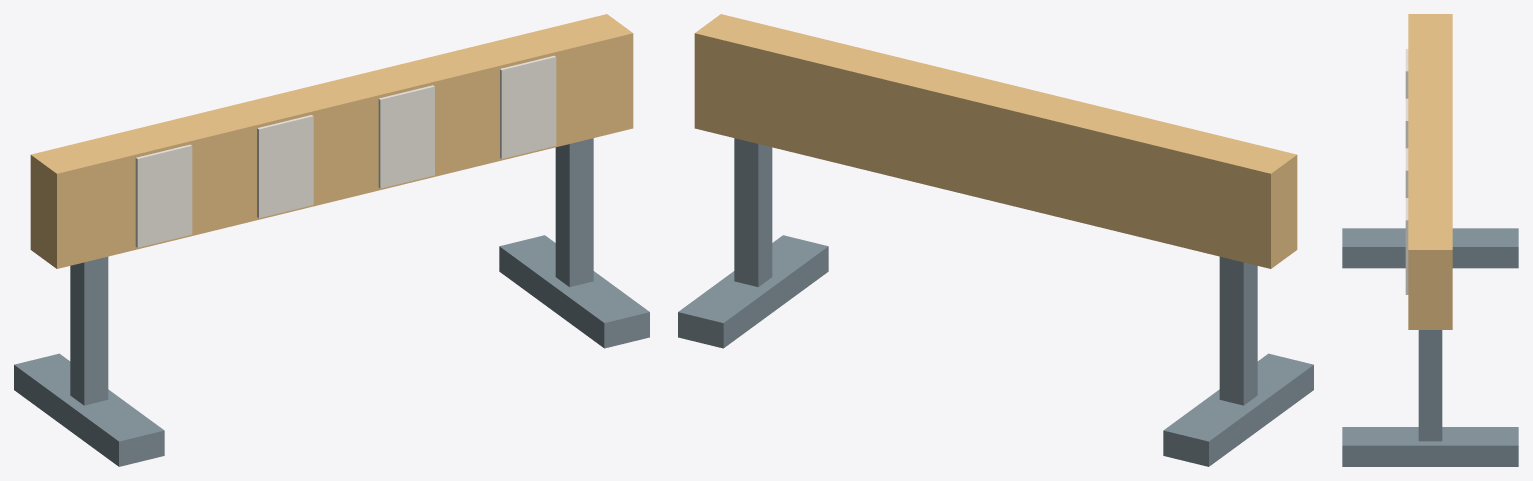
The model's file is road_barrier.glb.
The picture shows the model from 3 angles, left to right: view 1: azimuth 30°, elevation 25°; view 2: azimuth 150°, elevation 25°; view 3: azimuth 270°, elevation 25°; orthographic projection. The views are drawn at different scales.
Visible parts, largest first — view 1: road_barrier_004, road_barrier_001, road_barrier_003, road_barrier_000, road_barrier_002, road_barrier_005, road_barrier_007, road_barrier_008, road_barrier_006; view 2: road_barrier_004, road_barrier_001, road_barrier_003, road_barrier_000, road_barrier_002; view 3: road_barrier_004, road_barrier_003, road_barrier_001, road_barrier_002, road_barrier_008, road_barrier_005, road_barrier_006, road_barrier_007.
Part boxes in pixels (bbox=[...]): road_barrier_004: bbox=[30, 14, 633, 268]; road_barrier_001: bbox=[14, 353, 164, 466]; road_barrier_003: bbox=[499, 235, 649, 348]; road_barrier_000: bbox=[70, 256, 108, 405]; road_barrier_002: bbox=[555, 138, 593, 287]; road_barrier_005: bbox=[135, 144, 192, 247]; road_barrier_007: bbox=[378, 85, 434, 188]; road_barrier_008: bbox=[500, 55, 556, 158]; road_barrier_006: bbox=[257, 115, 313, 218]; road_barrier_004: bbox=[694, 14, 1297, 268]; road_barrier_001: bbox=[1163, 353, 1313, 466]; road_barrier_003: bbox=[678, 235, 828, 348]; road_barrier_000: bbox=[1219, 256, 1257, 405]; road_barrier_002: bbox=[734, 138, 772, 287]; road_barrier_004: bbox=[1408, 14, 1452, 329]; road_barrier_003: bbox=[1342, 427, 1518, 466]; road_barrier_001: bbox=[1342, 228, 1518, 268]; road_barrier_002: bbox=[1418, 330, 1442, 441]; road_barrier_008: bbox=[1405, 198, 1408, 294]; road_barrier_005: bbox=[1405, 49, 1408, 98]; road_barrier_006: bbox=[1405, 98, 1408, 148]; road_barrier_007: bbox=[1405, 148, 1408, 197].
Size of the model in its own units: 1.9 by 0.85 by 0.6.
